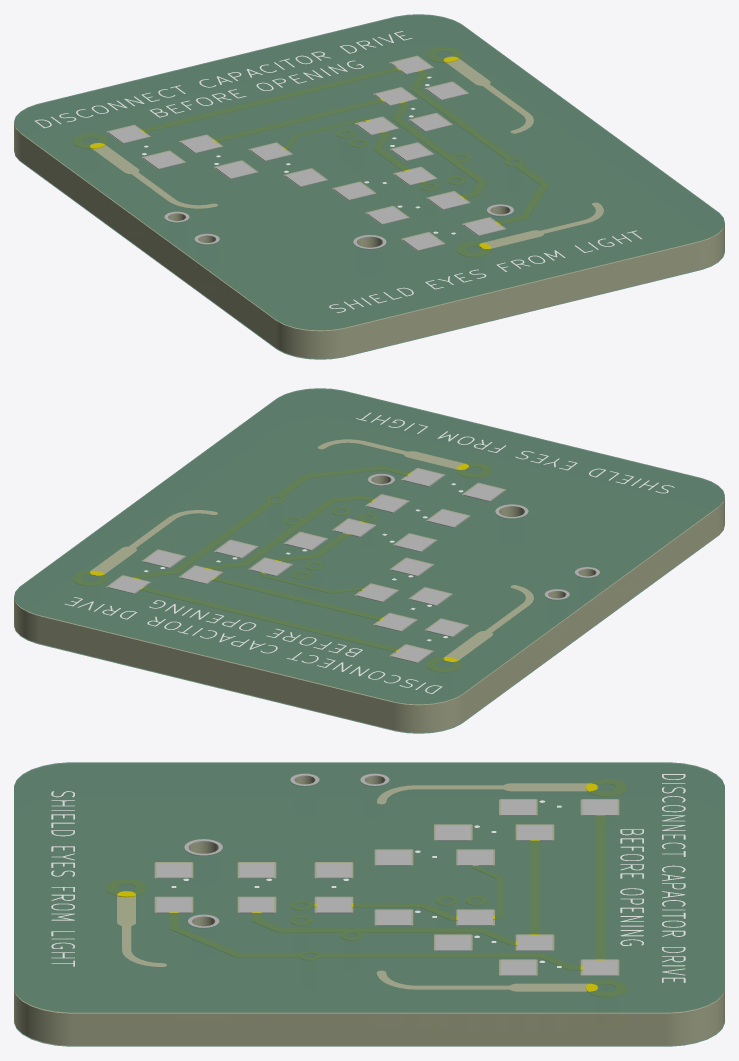
The model's file is flux-capacitor-trinket-pin.glb.
3 views of the same model, one above another, from view 1: azimuth 30°, elevation 25°; view 2: azimuth 150°, elevation 25°; view 3: azimuth 270°, elevation 25° (orthographic). The views are drawn at different scales.
Parts seen in each view (by area): view 1: =>[0:1:1:9], =>[0:1:1:7], =>[0:1:1:2], =>[0:1:1:5]; view 2: =>[0:1:1:9], =>[0:1:1:7], =>[0:1:1:2], =>[0:1:1:5]; view 3: =>[0:1:1:9], =>[0:1:1:7], =>[0:1:1:2], =>[0:1:1:5].
Boxes of the visible parts, x1,y1,x2,y2 form: =>[0:1:1:9]: [14, 15, 724, 358]; =>[0:1:1:7]: [14, 14, 724, 359]; =>[0:1:1:2]: [73, 47, 548, 256]; =>[0:1:1:5]: [34, 31, 641, 312]; =>[0:1:1:9]: [14, 389, 724, 732]; =>[0:1:1:7]: [14, 388, 724, 733]; =>[0:1:1:2]: [73, 463, 599, 671]; =>[0:1:1:5]: [64, 412, 674, 693]; =>[0:1:1:9]: [14, 764, 724, 1045]; =>[0:1:1:7]: [14, 762, 724, 1046]; =>[0:1:1:2]: [106, 773, 626, 996]; =>[0:1:1:5]: [51, 774, 685, 982].
Size of the model in its own units: 0.0254 by 0.00166 by 0.0305.
4 materials, 4 textured.
